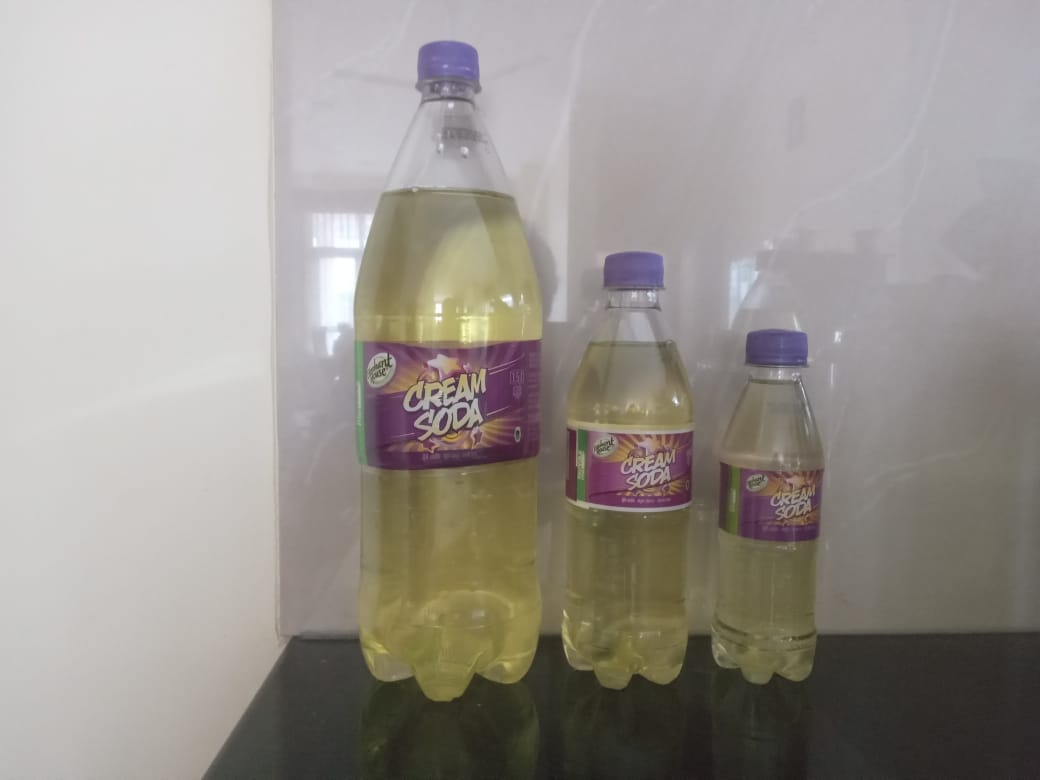L: (341, 40, 545, 710)
S: (556, 245, 696, 698)
Xs: (712, 325, 827, 691)
